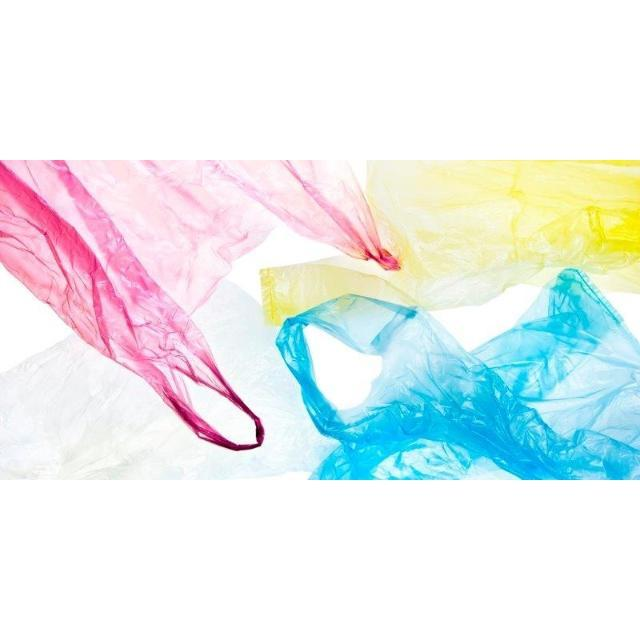plastic: (0, 160, 639, 479)
